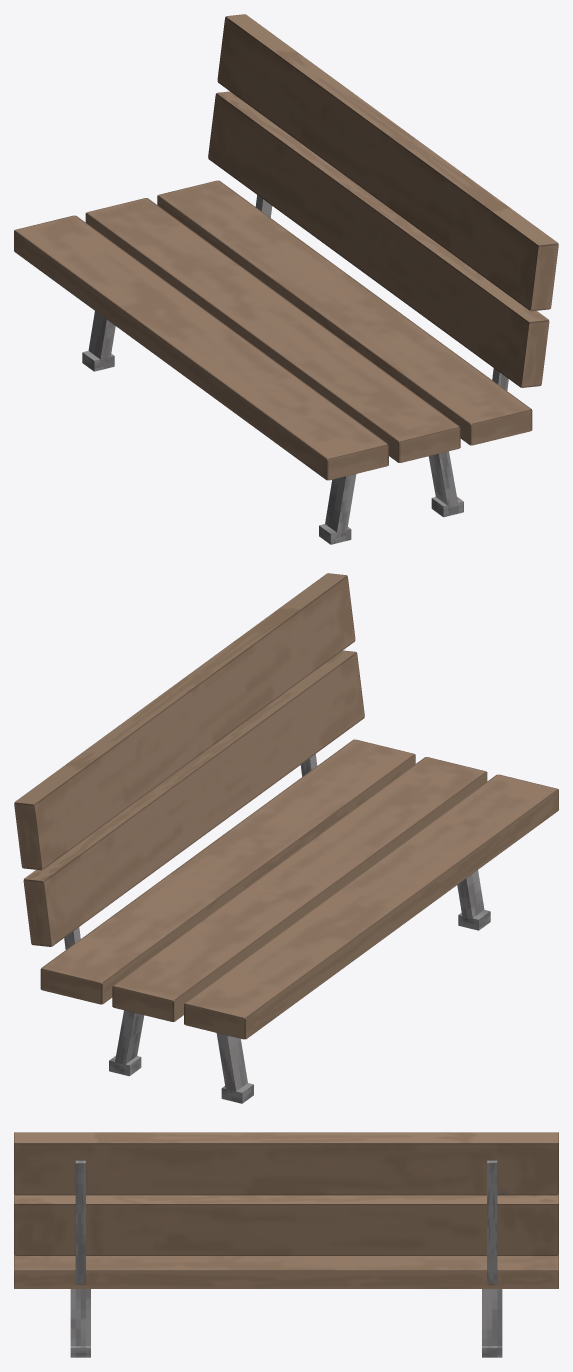
The model's file is Bench.fbx.
3 views of the same model, one above another, from view 1: azimuth 30°, elevation 25°; view 2: azimuth 150°, elevation 25°; view 3: azimuth 270°, elevation 25° (orthographic). The views are drawn at different scales.
Visible parts, largest first — view 1: cuboid_8, cuboid_5, cuboid, cuboid_2, cuboid_1, cuboid_9, cuboid_11, cuboid_16; view 2: cuboid_8, cuboid_5, cuboid, cuboid_2, cuboid_1, cuboid_16, cuboid_15, cuboid_9; view 3: cuboid_8, cuboid_5, cuboid_2, cuboid_6, cuboid_7, cuboid_11, cuboid_15.
Part boxes in pixels (x1,y1,x2,y2): cuboid_8: [217, 14, 558, 311]; cuboid_5: [208, 91, 549, 387]; cuboid: [14, 215, 388, 480]; cuboid_2: [157, 180, 532, 445]; cuboid_1: [85, 198, 460, 462]; cuboid_9: [325, 474, 356, 533]; cuboid_11: [428, 451, 457, 509]; cuboid_16: [88, 311, 115, 360]; cuboid_8: [14, 573, 355, 870]; cuboid_5: [23, 650, 364, 946]; cuboid: [184, 774, 558, 1039]; cuboid_2: [40, 739, 415, 1004]; cuboid_1: [112, 757, 487, 1021]; cuboid_16: [216, 1033, 247, 1092]; cuboid_15: [115, 1010, 144, 1067]; cuboid_9: [457, 870, 484, 919]; cuboid_8: [14, 1132, 558, 1195]; cuboid_5: [14, 1195, 558, 1255]; cuboid_2: [14, 1255, 558, 1288]; cuboid_6: [75, 1160, 85, 1284]; cuboid_7: [487, 1160, 497, 1284]; cuboid_11: [70, 1289, 90, 1345]; cuboid_15: [482, 1289, 502, 1345].
Size of the model in its own units: 28.56 by 32.67 by 66.25.
1 material, 1 textured.
